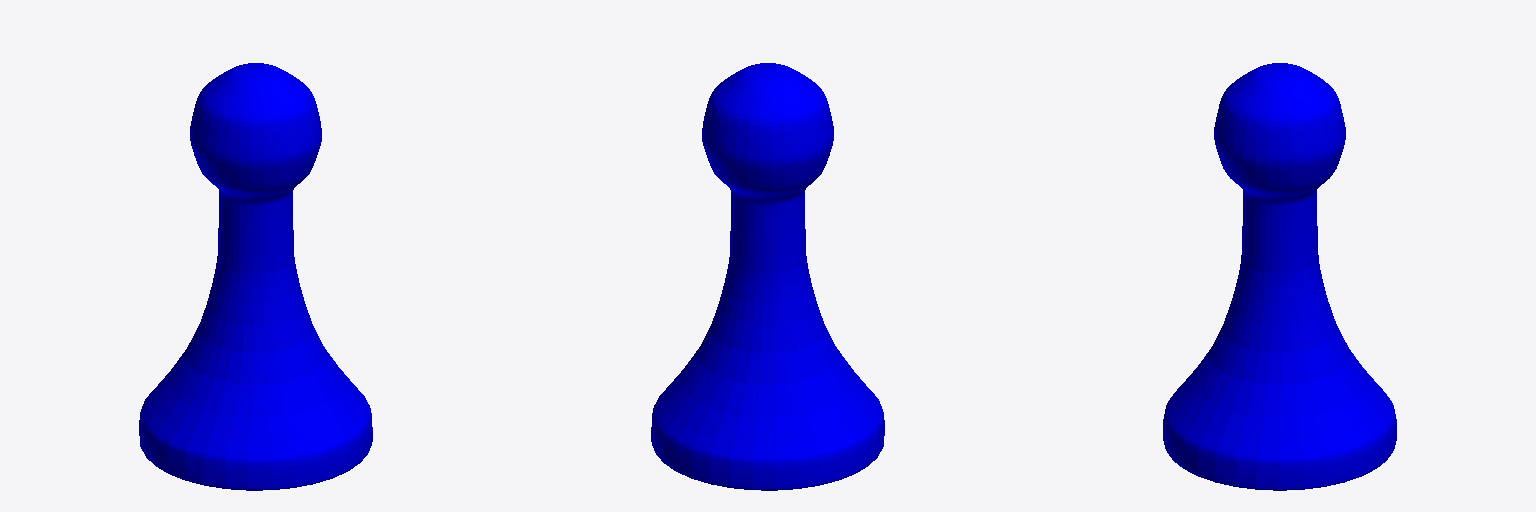
Rendered from blue_figure.obj.
3 views of the same model, side by side, from view 1: azimuth 30°, elevation 25°; view 2: azimuth 150°, elevation 25°; view 3: azimuth 270°, elevation 25° (orthographic).
Parts seen in each view (by area): view 1: Cube; view 2: Cube; view 3: Cube.
Part boxes in pixels (x1,y1,x2,y2): Cube: (139, 63, 372, 490); Cube: (651, 63, 884, 490); Cube: (1163, 63, 1396, 490).
Size of the model in its own units: 2.56 by 4.51 by 2.56.